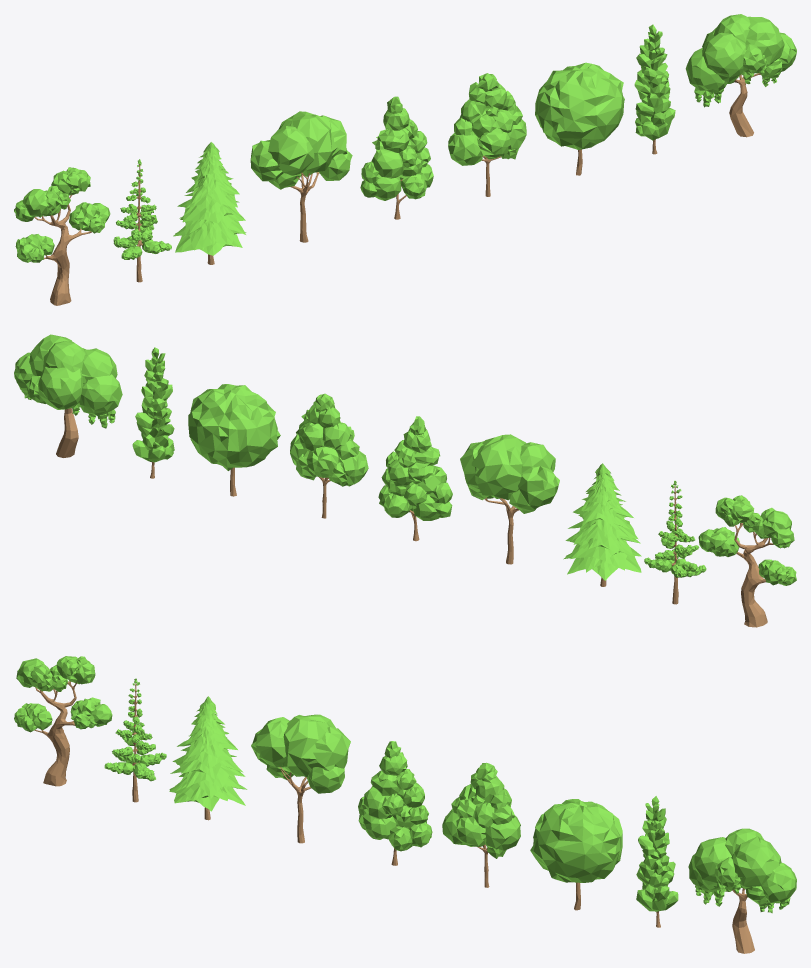
Rendered from uploads_files_2034815_Tree_pack_lowpoly_DAE (1).dae.
3 renders of one model, top to bottom at view 1: azimuth 30°, elevation 25°; view 2: azimuth 150°, elevation 25°; view 3: azimuth 330°, elevation 25°, orthographic.
Parts seen in each view (by area): view 1: Tree_09_leaves.001, Tree_07_leaves.001, Tree_04_leaves.001, Tree_06_leaves.001, Tree_05_leaves.001, Tree_03_leaves.001, Tree_01_leaves.001, Tree_08_leaves.001, Tree_02_leaves.001, Tree_01.001, Tree_09.001, Tree_04.001; view 2: Tree_09_leaves.001, Tree_07_leaves.001, Tree_04_leaves.001, Tree_03_leaves.001, Tree_05_leaves.001, Tree_06_leaves.001, Tree_01_leaves.001, Tree_08_leaves.001, Tree_02_leaves.001, Tree_01.001, Tree_09.001; view 3: Tree_07_leaves.001, Tree_09_leaves.001, Tree_04_leaves.001, Tree_05_leaves.001, Tree_03_leaves.001, Tree_06_leaves.001, Tree_01_leaves.001, Tree_08_leaves.001, Tree_02_leaves.001, Tree_01.001, Tree_09.001, Tree_04.001.
Boxes of the visible parts, x1,y1,x2,y2 form: Tree_09_leaves.001: (685,14,796,107); Tree_07_leaves.001: (535,62,624,149); Tree_04_leaves.001: (250,111,352,189); Tree_06_leaves.001: (448,73,526,165); Tree_05_leaves.001: (360,96,433,200); Tree_03_leaves.001: (173,142,246,255); Tree_01_leaves.001: (14,167,110,262); Tree_08_leaves.001: (634,24,675,140); Tree_02_leaves.001: (113,159,171,259); Tree_01.001: (34,194,91,305); Tree_09.001: (729,73,760,137); Tree_04.001: (290,172,319,242); Tree_09_leaves.001: (14,334,122,428); Tree_07_leaves.001: (188,384,280,470); Tree_04_leaves.001: (460,434,559,513); Tree_03_leaves.001: (563,463,641,580); Tree_05_leaves.001: (378,416,452,520); Tree_06_leaves.001: (290,393,368,486); Tree_01_leaves.001: (698,495,796,585); Tree_08_leaves.001: (132,347,174,462); Tree_02_leaves.001: (644,480,706,577); Tree_01.001: (734,523,773,627); Tree_09.001: (56,408,78,457); Tree_07_leaves.001: (530,799,622,882); Tree_09_leaves.001: (688,828,796,913); Tree_04_leaves.001: (251,714,350,793); Tree_05_leaves.001: (358,741,432,851); Tree_03_leaves.001: (169,696,247,811); Tree_06_leaves.001: (442,762,520,858); Tree_01_leaves.001: (14,656,112,732); Tree_08_leaves.001: (636,796,678,911); Tree_02_leaves.001: (104,678,166,781); Tree_01.001: (34,681,76,786); Tree_09.001: (732,888,754,953); Tree_04.001: (279,767,311,843).
Size of the model in its own units: 9.31 by 0.9131 by 1.49.
